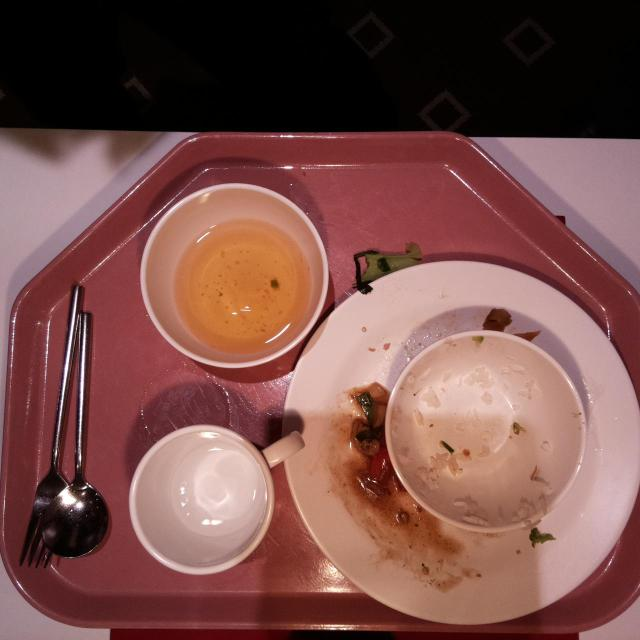Rice: (416, 453, 458, 489)
Vegetable: (353, 241, 423, 293)
